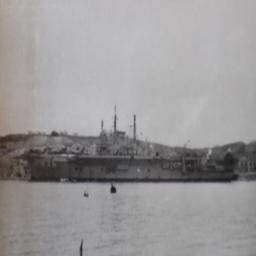Portanaves: (18, 104, 236, 184)
